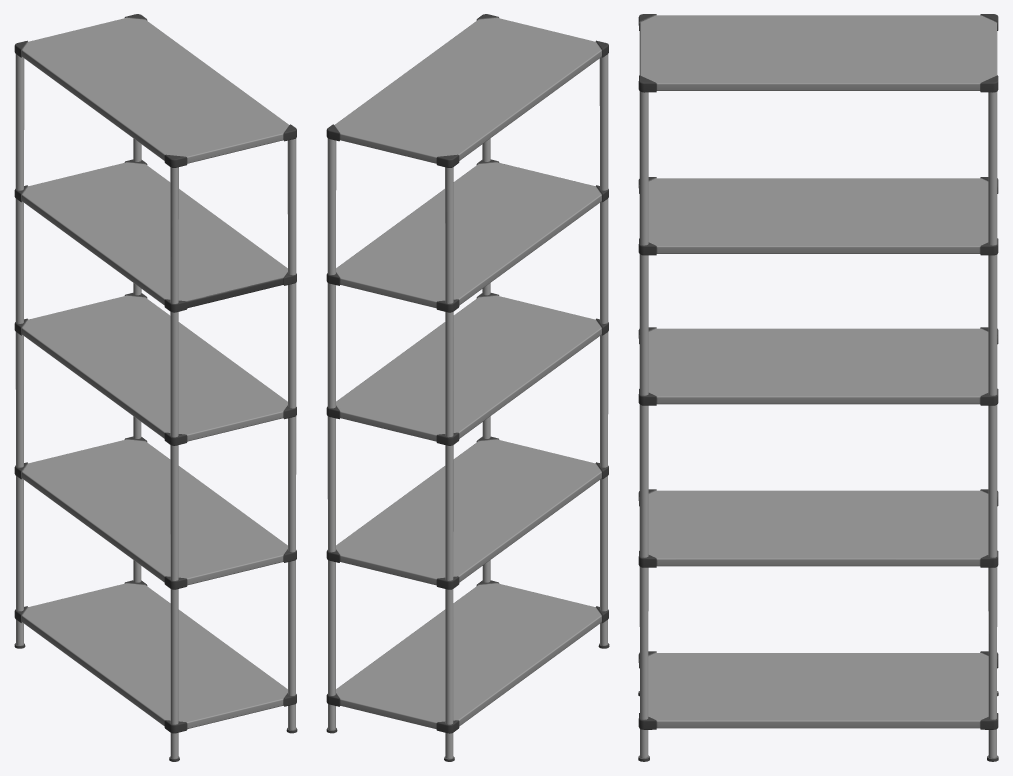
The model's file is Lemari.fbx.
3 views of the same model, side by side, from view 1: azimuth 30°, elevation 25°; view 2: azimuth 150°, elevation 25°; view 3: azimuth 270°, elevation 25° (orthographic). The views are drawn at different scales.
Visible parts, largest first — view 1: polySurface27; view 2: polySurface27; view 3: polySurface27.
Boxes of the visible parts, <box> form: polySurface27: <box>14,14,297,761</box>; polySurface27: <box>326,14,609,761</box>; polySurface27: <box>638,14,998,761</box>.
Bounding box in the file's own units: 55.16 × 250 × 120.
